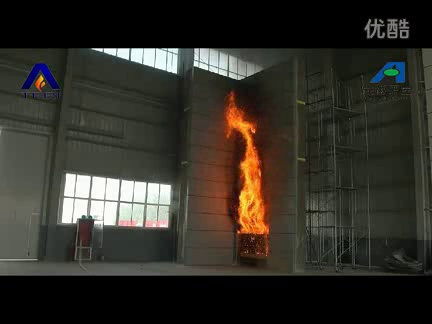fire: (222, 93, 269, 234)
